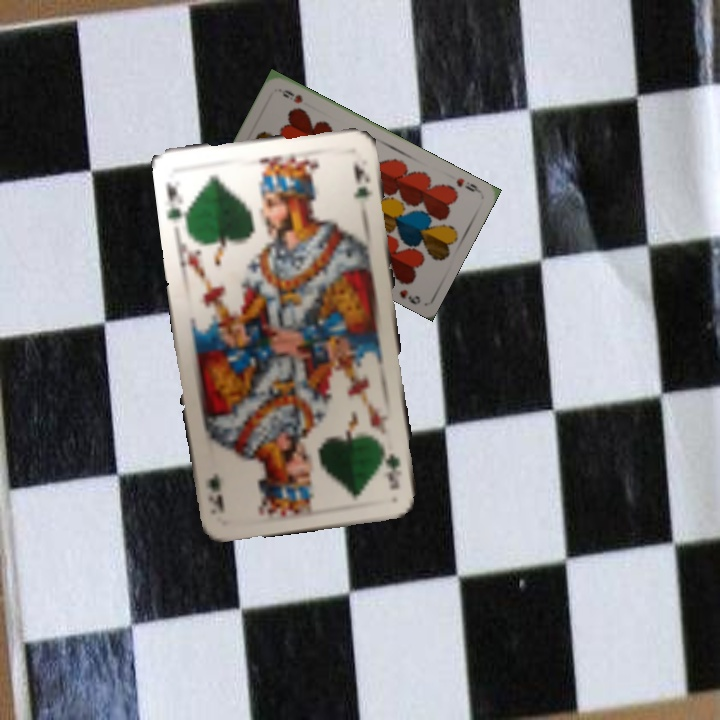GK: (162, 178, 191, 228), (379, 436, 403, 493)
H9: (452, 174, 482, 195)
